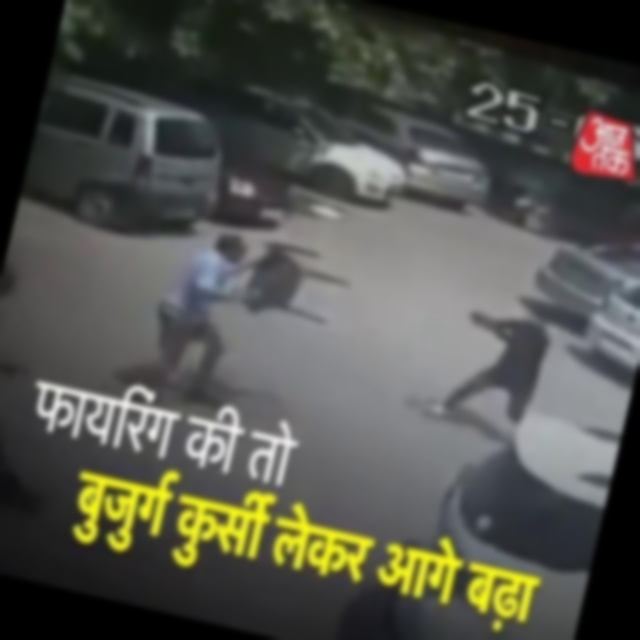gun: (462, 300, 494, 328)
